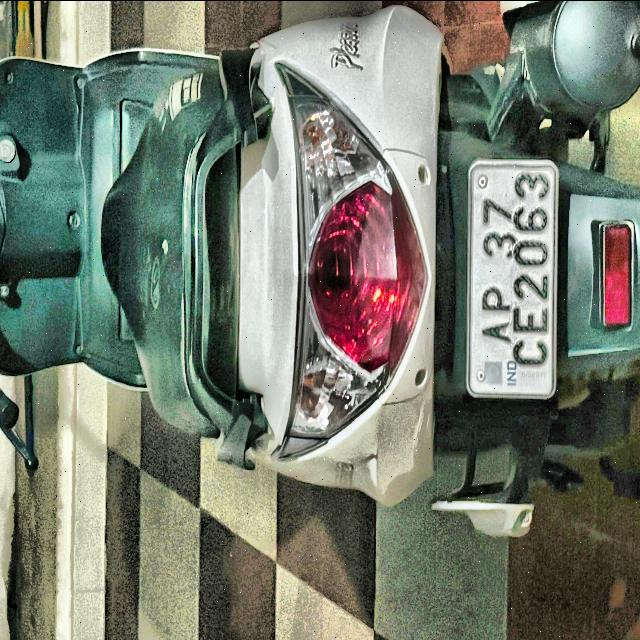license-plate: (469, 160, 560, 398)
